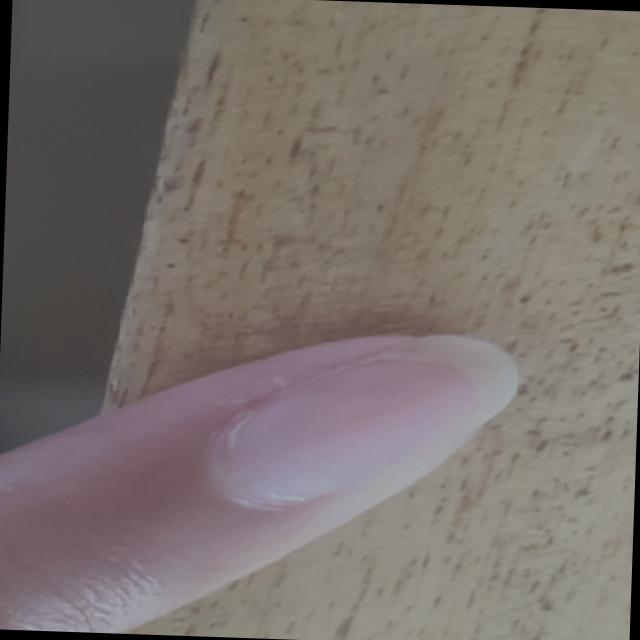Nail: (214, 334, 512, 503)
